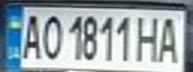1: (63, 11, 84, 61), (115, 12, 136, 62), (100, 11, 118, 61)
8: (78, 11, 100, 61)
A: (154, 12, 184, 64), (18, 10, 45, 61)
H: (133, 12, 163, 63)
O: (39, 11, 63, 61)
